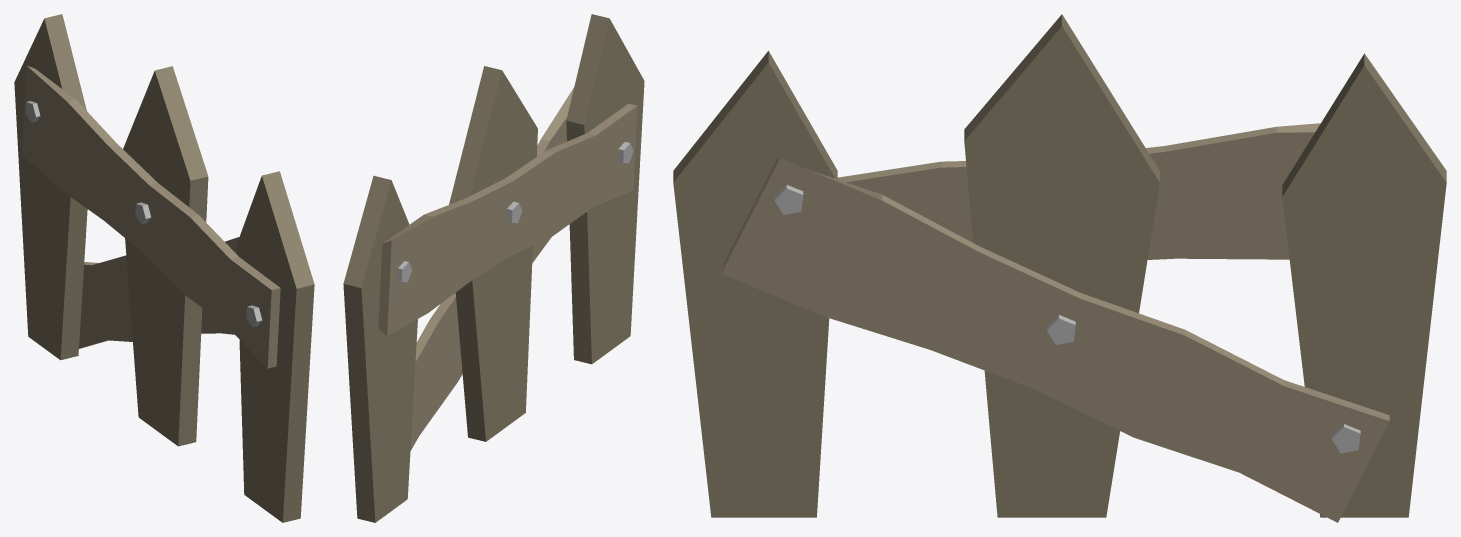
File: Fence_V4.fbx
The picture shows the model from 3 angles, left to right: view 1: azimuth 30°, elevation 25°; view 2: azimuth 150°, elevation 25°; view 3: azimuth 270°, elevation 25°; orthographic projection. The views are drawn at different scales.
Visible parts, largest first — view 1: Fence_v4; view 2: Fence_v4; view 3: Fence_v4.
Part boxes in pixels (x1=…): Fence_v4: x1=14, y1=14, x2=314, y2=522; Fence_v4: x1=343, y1=14, x2=644, y2=522; Fence_v4: x1=673, y1=14, x2=1446, y2=522.
Bounding box in the file's own units: 0.5228 × 3.81 × 5.44.
